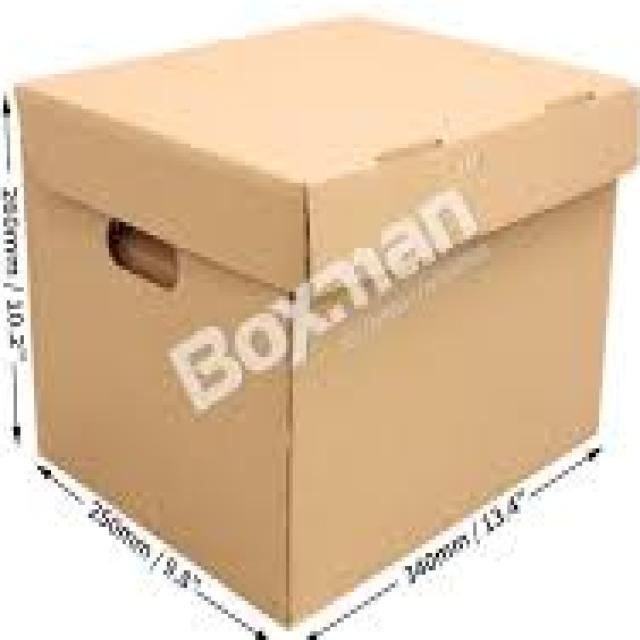box: (13, 12, 640, 632)
normal_hole: (104, 216, 181, 291)
